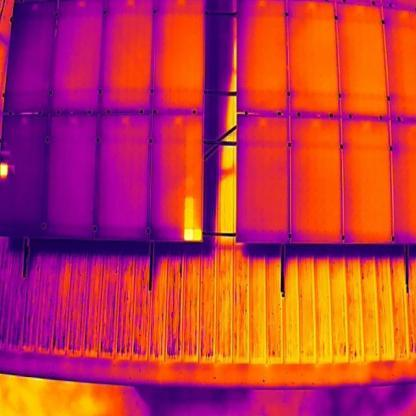anomaly: (181, 195, 205, 243), (0, 159, 13, 181)
